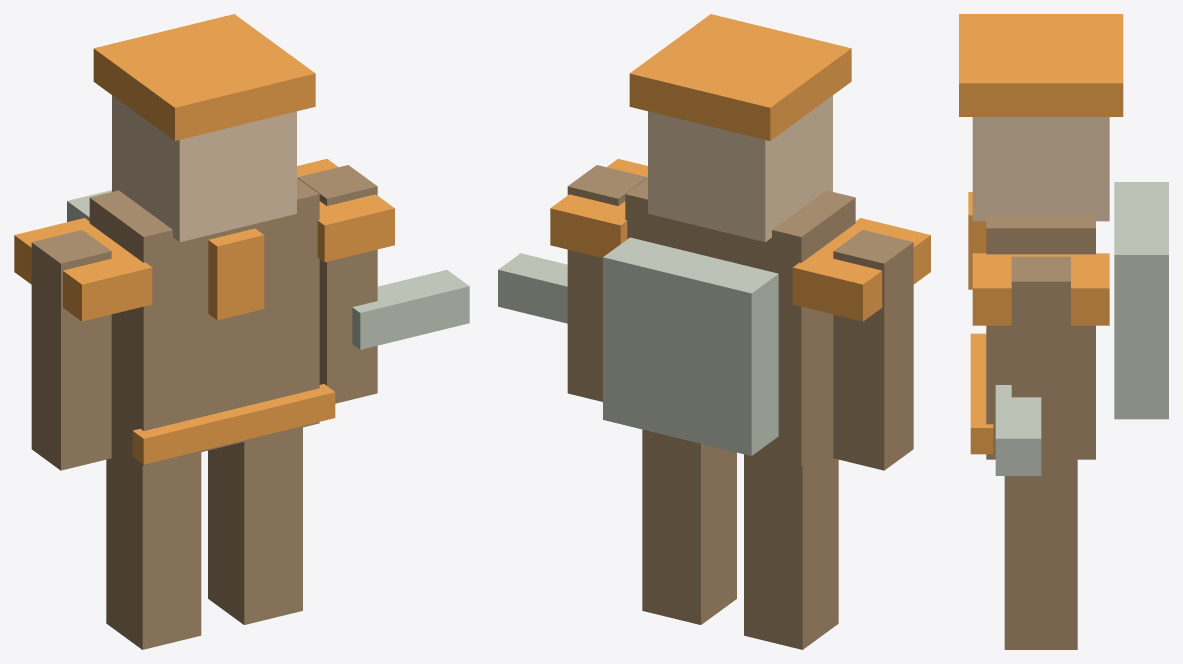
File: 08_noor_ironwake_mechanist_near_lexicon.glb
The picture shows the model from 3 angles, left to right: view 1: azimuth 30°, elevation 25°; view 2: azimuth 150°, elevation 25°; view 3: azimuth 270°, elevation 25°; orthographic projection.
Visible parts, largest first — view 1: Noor Ironwake, Mechanist near Lexicon; view 2: Noor Ironwake, Mechanist near Lexicon; view 3: Noor Ironwake, Mechanist near Lexicon.
Boxes of the visible parts, x1,y1,x2,y2 form: Noor Ironwake, Mechanist near Lexicon: [14, 14, 469, 649]; Noor Ironwake, Mechanist near Lexicon: [498, 14, 930, 649]; Noor Ironwake, Mechanist near Lexicon: [959, 14, 1168, 649].
Bounding box in the file's own units: 1.12 × 1.48 × 0.5014.
